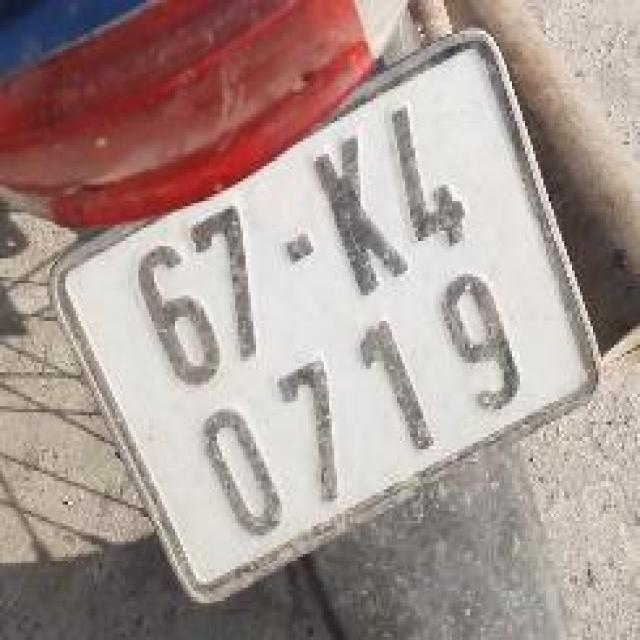0: (188, 393, 298, 550)
1: (343, 299, 452, 467)
4: (372, 81, 484, 268)
6: (122, 224, 238, 405)
7: (185, 190, 286, 373), (263, 346, 361, 516)
9: (423, 252, 540, 429)
K: (296, 118, 418, 311)
